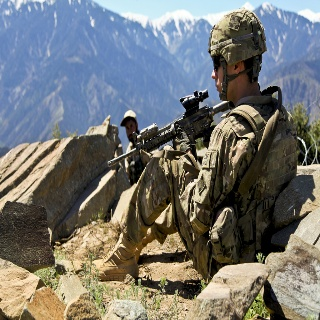rifle: (107, 88, 232, 169)
